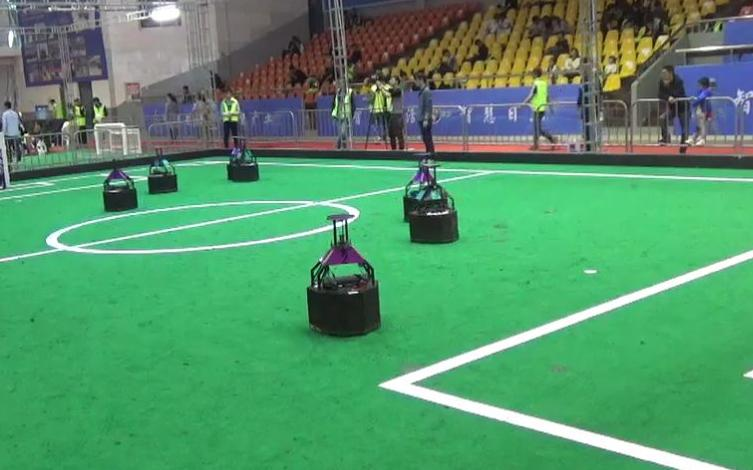robot: (300, 209, 387, 337), (400, 146, 465, 248), (97, 152, 141, 212), (139, 142, 181, 195), (225, 133, 263, 183)
